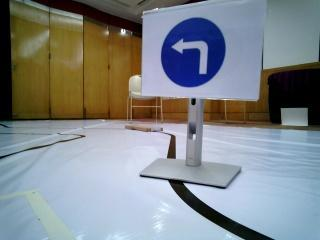left: (147, 15, 242, 90)
